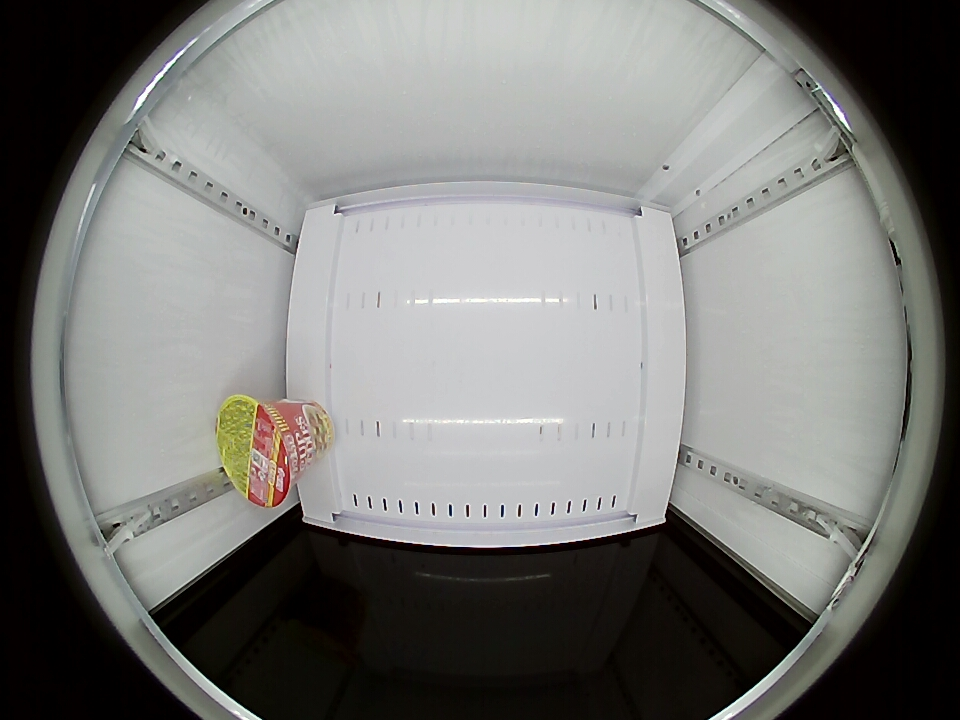heweidao3: (216, 395, 301, 508)
